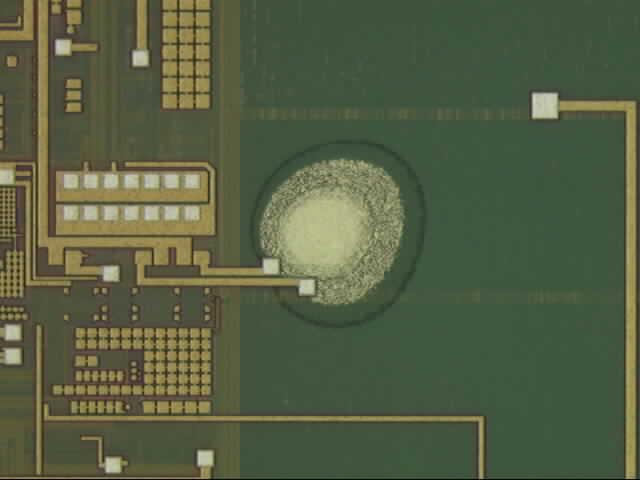BLOCK ETCH: (248, 134, 432, 331)
